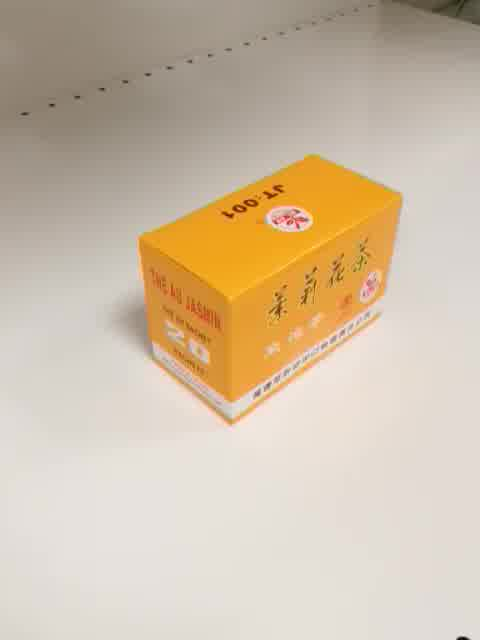jasminetea: (134, 153, 407, 428)
